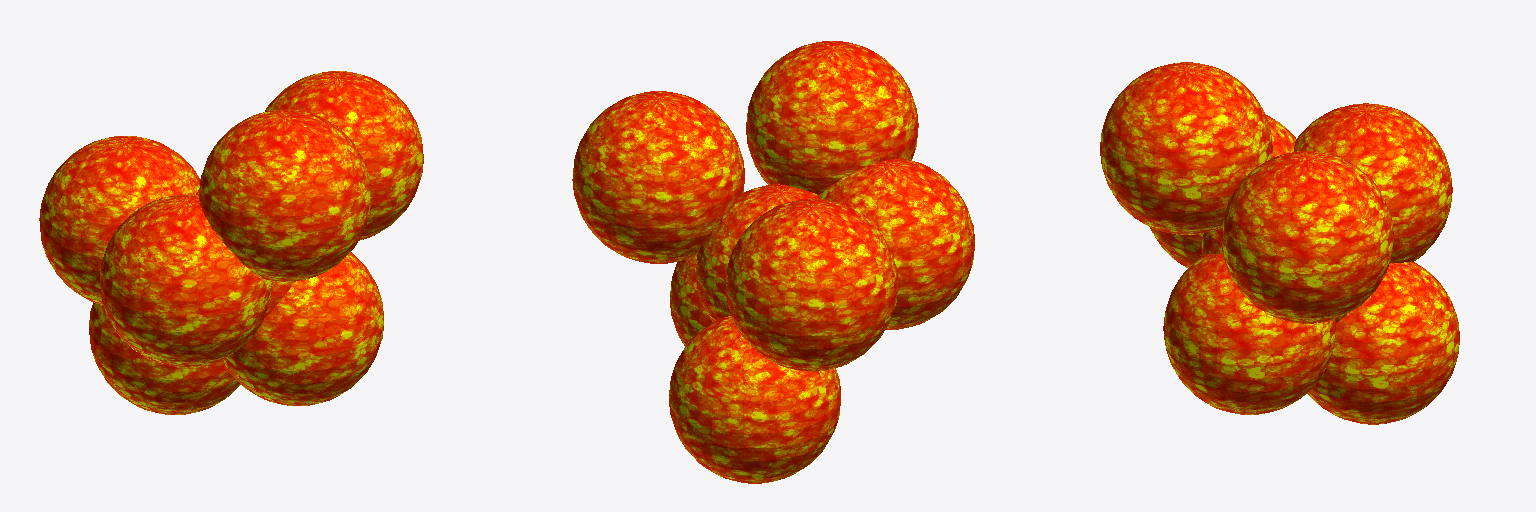
3 renders of one model, left to right at view 1: azimuth 30°, elevation 25°; view 2: azimuth 150°, elevation 25°; view 3: azimuth 270°, elevation 25°, orthographic.
Visible parts, largest first — view 1: 球.001; view 2: 球.001; view 3: 球.001.
Boxes of the visible parts, x1,y1,x2,y2 form: 球.001: [39, 71, 423, 414]; 球.001: [572, 41, 974, 483]; 球.001: [1100, 62, 1459, 424].
Bounding box in the file's own units: 4.54 × 4.52 × 4.16.
1 materials, 1 textured.